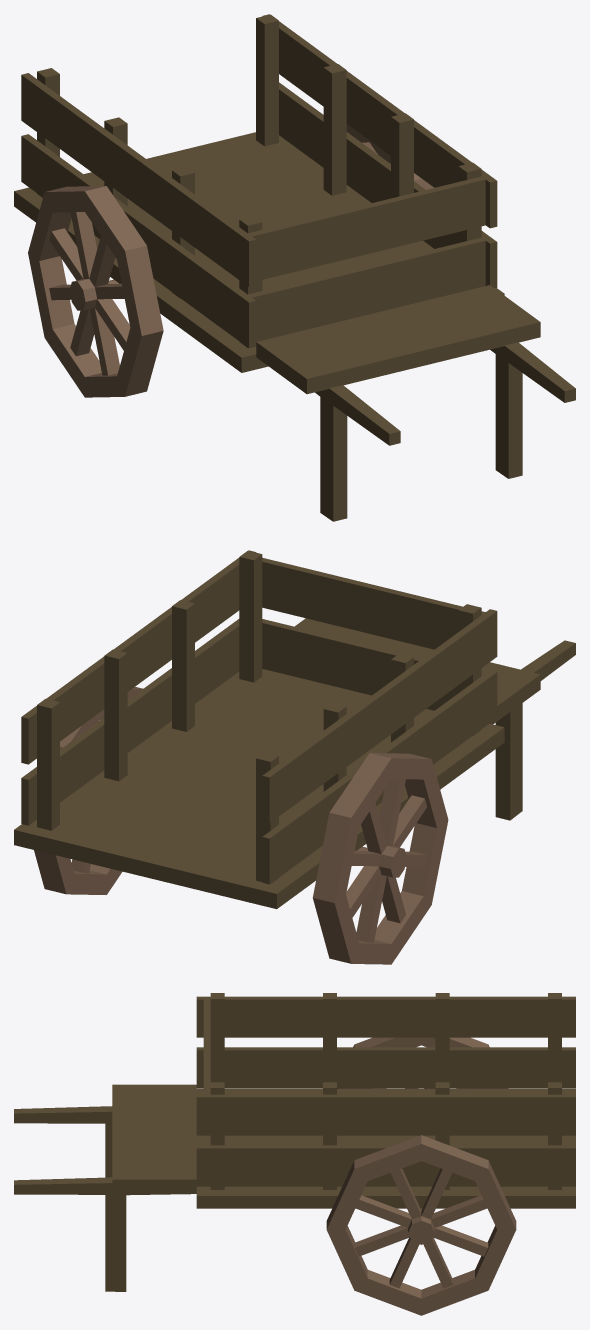
Rendered from enchantedforest_cart.fbx.
3 views of the same model, one above another, from view 1: azimuth 30°, elevation 25°; view 2: azimuth 150°, elevation 25°; view 3: azimuth 270°, elevation 25° (orthographic). The views are drawn at different scales.
Parts seen in each view (by area): view 1: Cube.054, Cylinder.031; view 2: Cube.054, Cylinder.031, Cylinder.032; view 3: Cube.054, Cylinder.032, Cylinder.031.
Part boxes in pixels (x1=…): Cube.054: x1=14, y1=14, x2=575, y2=521; Cylinder.031: x1=28, y1=186, x2=163, y2=397; Cube.054: x1=14, y1=550, x2=575, y2=909; Cylinder.031: x1=312, y1=753, x2=448, y2=964; Cylinder.032: x1=34, y1=686, x2=142, y2=894; Cube.054: x1=14, y1=993, x2=575, y2=1291; Cylinder.032: x1=326, y1=1135, x2=516, y2=1315; Cylinder.031: x1=337, y1=1037, x2=508, y2=1088.
Size of the model in its own units: 2.2 by 1.67 by 4.
